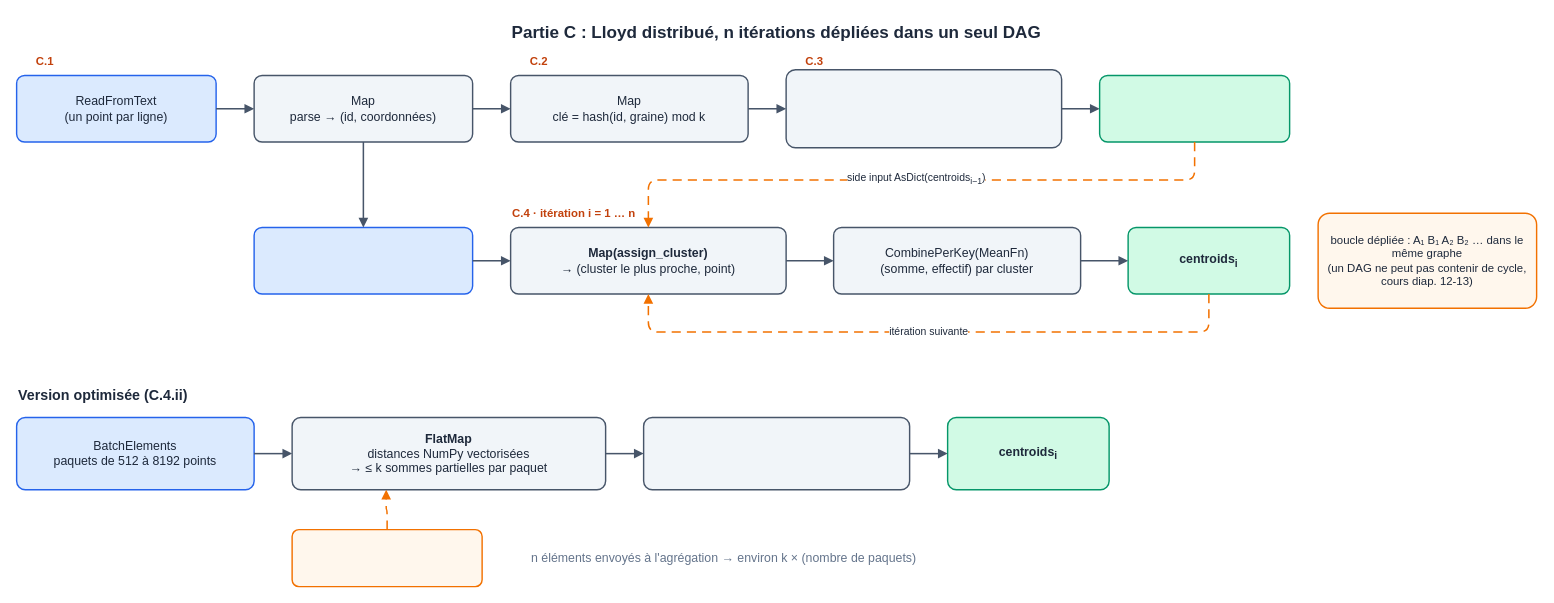
Some shapes in this 1554 by 603 pixel diagram are drawn without their labels. Here are the shapes that lost their labels. From the top down, the centre of each, then its label:
At pixel 923 108: "CombinePerKey(MeanFn) .with_hot_key_fanout(4) accumulateur (somme, effectif)".
At pixel 1194 108: "centroids₀ (cluster, centre)".
At pixel 363 260: "points (même PCollection)".
At pixel 776 453: "CombinePerKey(SumCountFn) fusion des (somme, effectif)".
At pixel 386 557: "matrice k × d AsSingleton".
